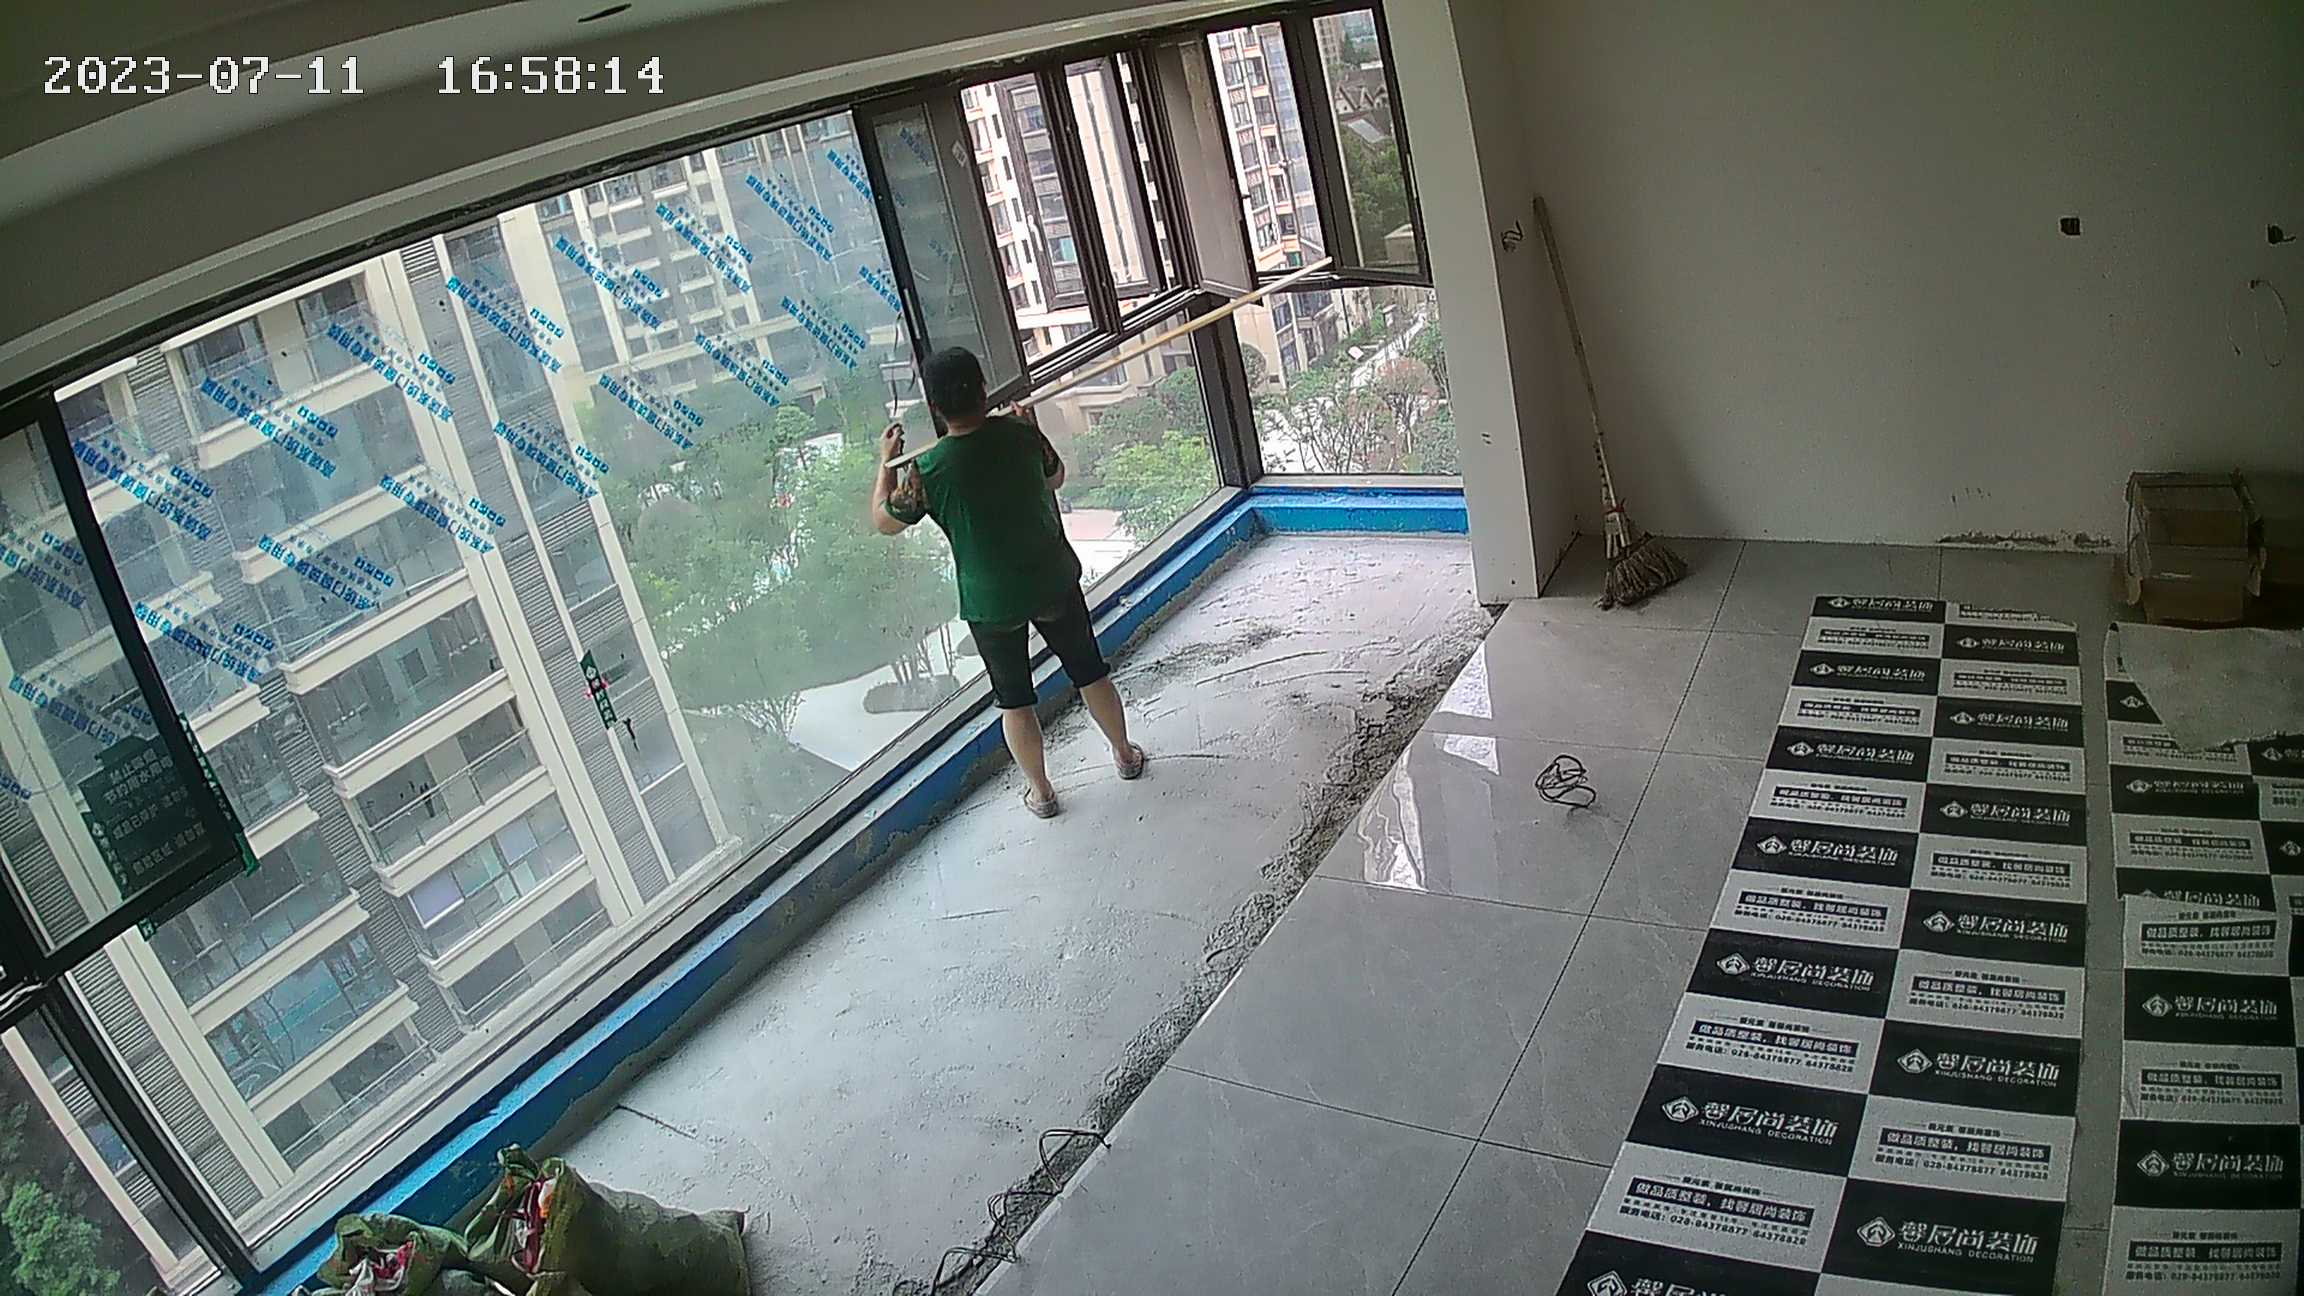people: (871, 345, 1162, 815)
window: (18, 37, 1462, 1176)
